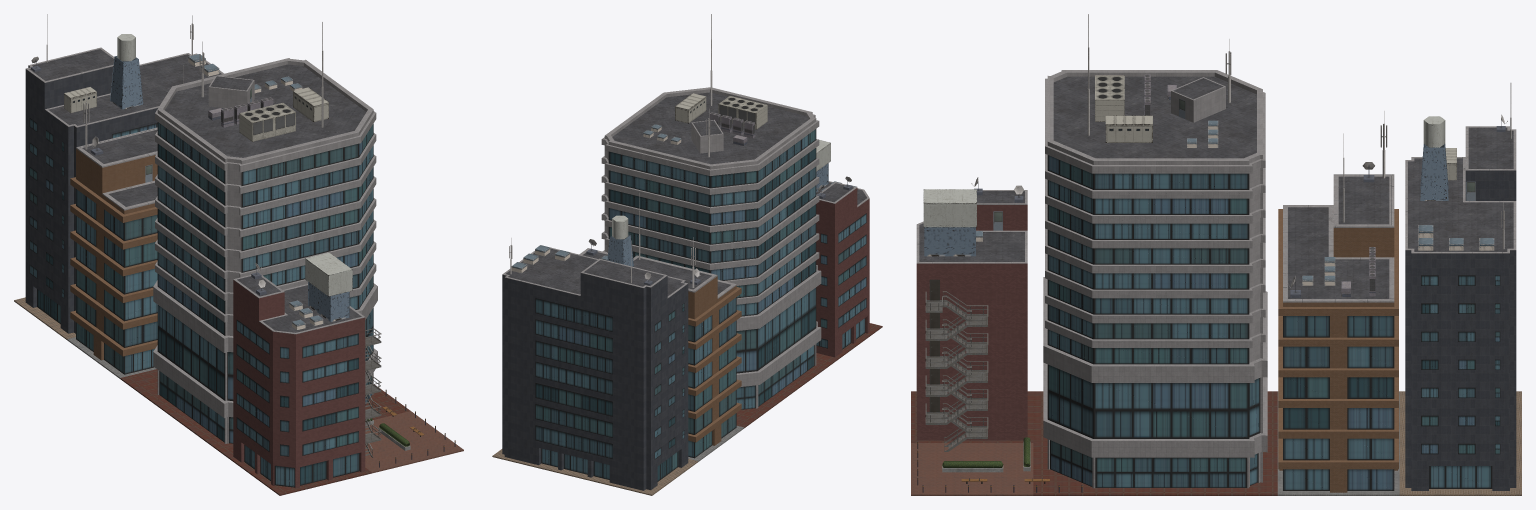
The model's file is jctlowBldSetK.fbx.
3 renders of one model, left to right at view 1: azimuth 30°, elevation 25°; view 2: azimuth 150°, elevation 25°; view 3: azimuth 270°, elevation 25°, orthographic. The views are drawn at different scales.
Visible parts, largest first — view 1: jctlowBldSetK; view 2: jctlowBldSetK; view 3: jctlowBldSetK.
Part boxes in pixels (box(x1,y1,x2,y2)): jctlowBldSetK: box(14, 14, 463, 495); jctlowBldSetK: box(492, 14, 882, 495); jctlowBldSetK: box(911, 14, 1521, 495).
Bounding box in the file's own units: 2400 × 4834 × 6000.
15 materials, 15 textured.
